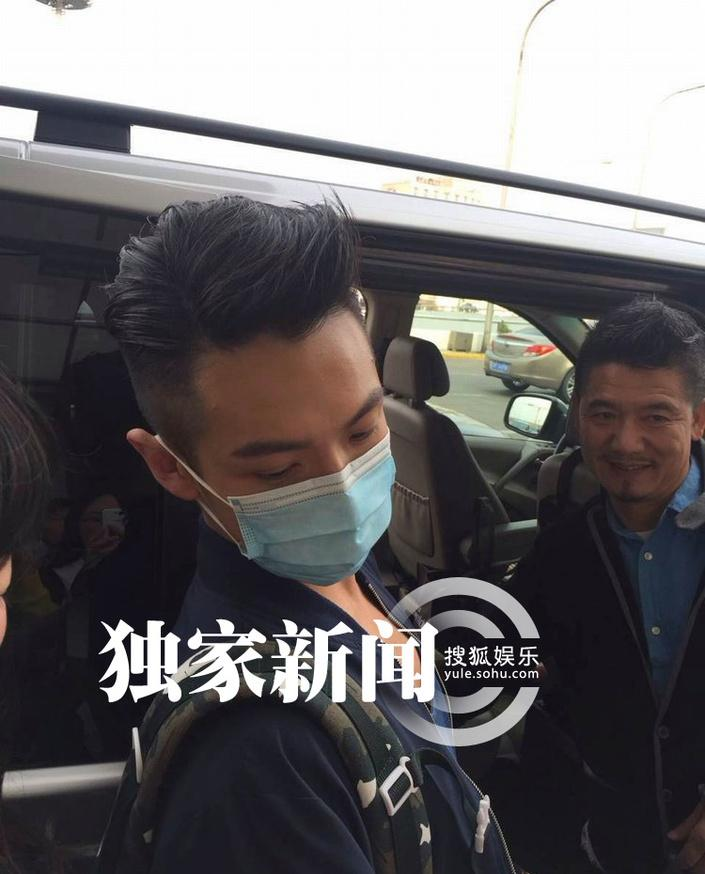face: (579, 360, 691, 501), (81, 495, 125, 562)
face_mask: (203, 313, 399, 584)
